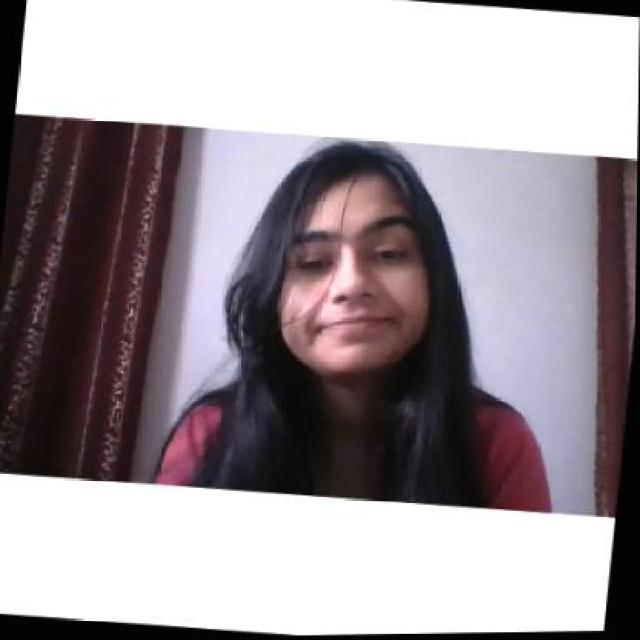attentif: (274, 135, 444, 377)
